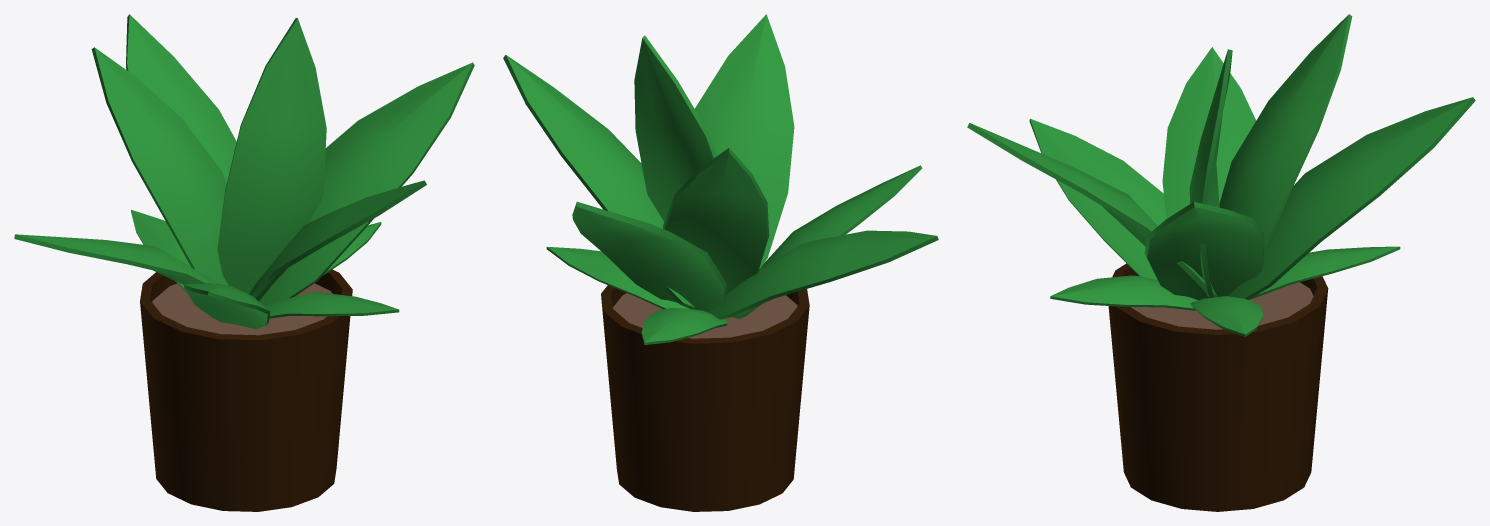
File: SmallPlant.fbx
3 views of the same model, side by side, from view 1: azimuth 30°, elevation 25°; view 2: azimuth 150°, elevation 25°; view 3: azimuth 270°, elevation 25° (orthographic). The views are drawn at different scales.
Visible parts, largest first — view 1: Prop_Homeplant_01; view 2: Prop_Homeplant_01; view 3: Prop_Homeplant_01.
Part boxes in pixels (<box>): Prop_Homeplant_01: <box>14,14,474,511</box>; Prop_Homeplant_01: <box>503,14,938,511</box>; Prop_Homeplant_01: <box>967,14,1475,511</box>.
Bounding box in the file's own units: 48.1 × 50.94 × 47.13.
